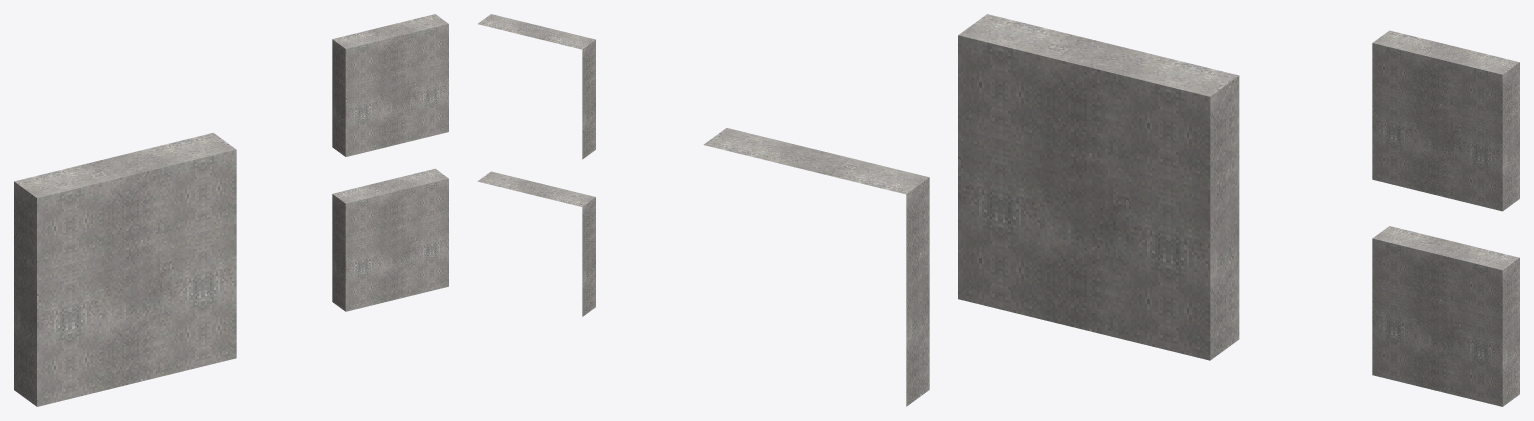
The model's file is jc-sj-375-geode.glb.
3 views of the same model, side by side, from view 1: azimuth 30°, elevation 25°; view 2: azimuth 150°, elevation 25°; view 3: azimuth 330°, elevation 25° (orthographic). The views are drawn at different scales.
Parts seen in each view (by area): view 1: Node; view 2: Node; view 3: Node.
Boxes of the visible parts, x1,y1,x2,y2 form: Node: (14, 14, 448, 406); Node: (477, 14, 929, 406); Node: (958, 14, 1519, 406).
Bounding box in the file's own units: 3.17 × 1.96 × 0.3004.
Materials: 1 (1 with a texture image).
